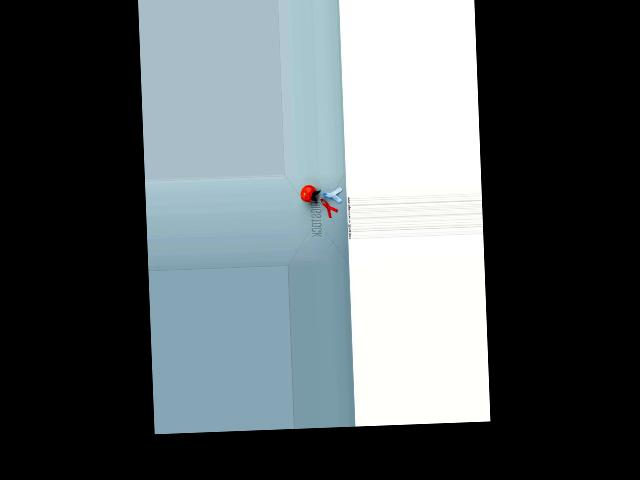tomato: (300, 185, 317, 202)
